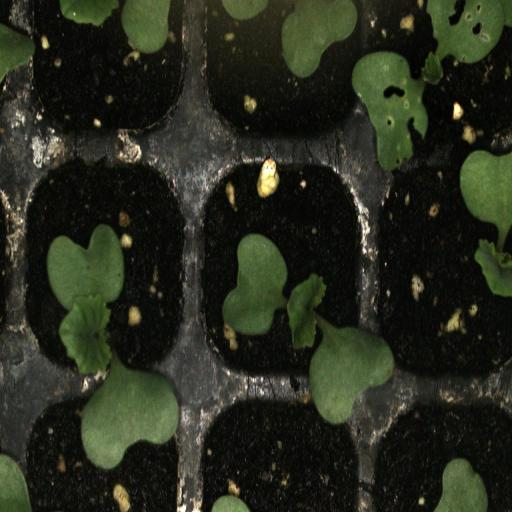seedling: (16, 151, 195, 388), (198, 152, 372, 386)
